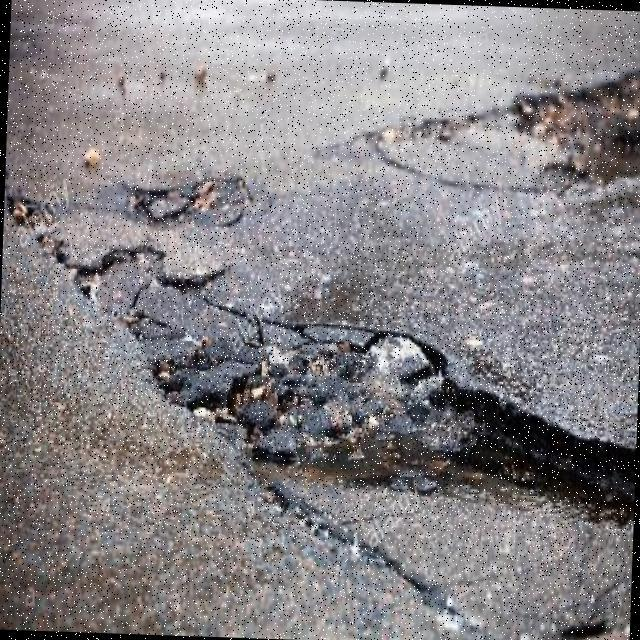Pothole: (187, 320, 635, 527)
